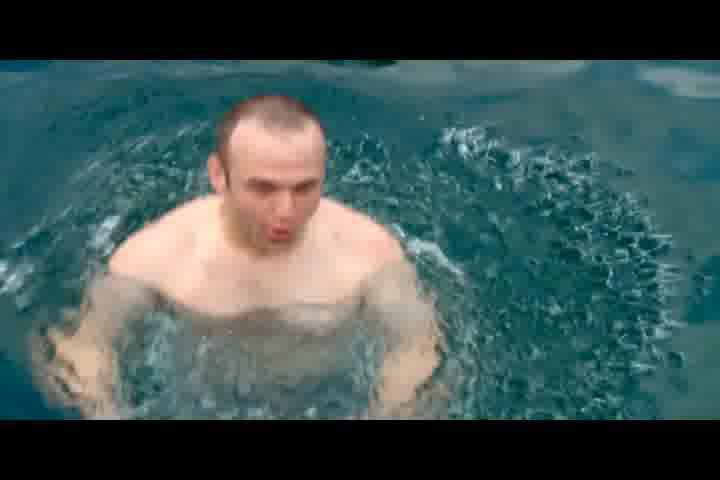swimmer: (41, 92, 452, 422)
